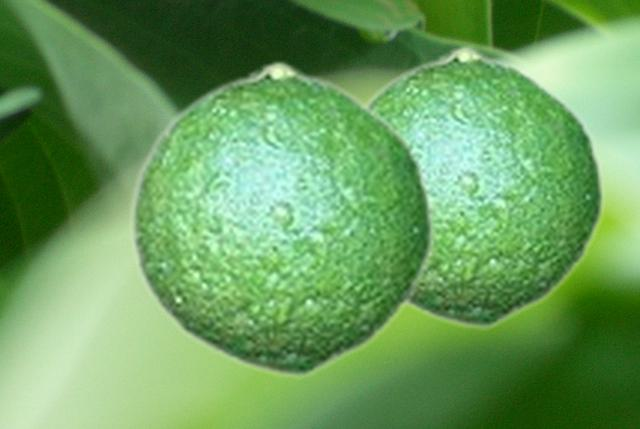dalandan: (126, 59, 435, 378), (364, 44, 605, 329)
